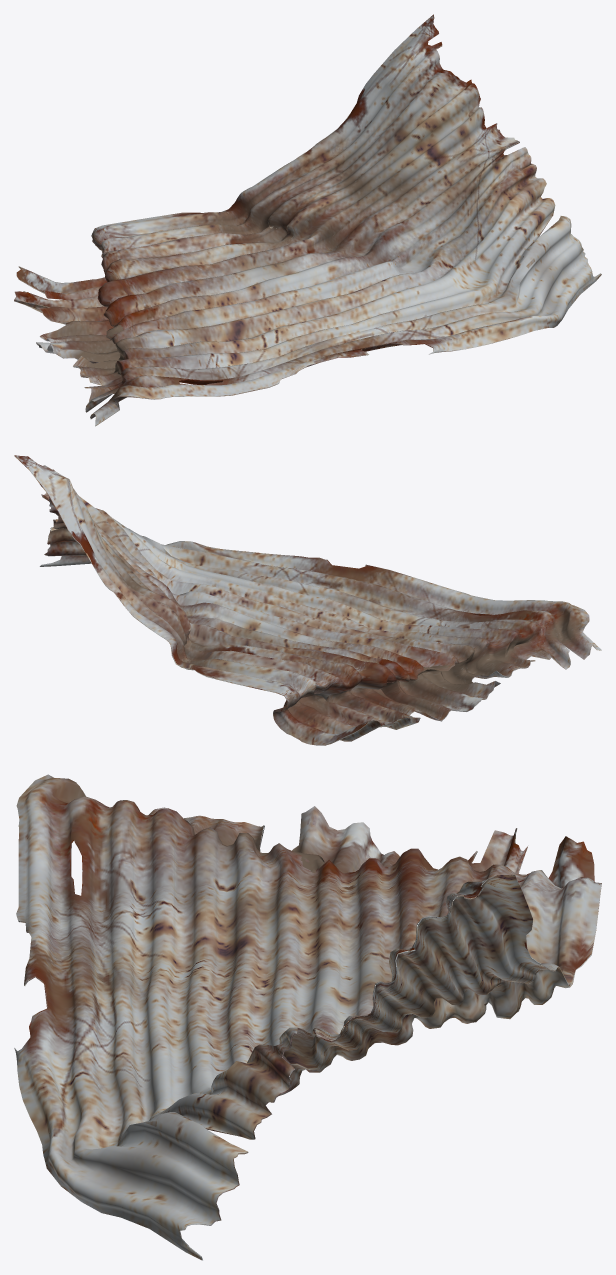
File: MOD_DebrisCorrugated_D.fbx
The picture shows the model from 3 angles, top to bottom: view 1: azimuth 30°, elevation 25°; view 2: azimuth 150°, elevation 25°; view 3: azimuth 270°, elevation 25°; orthographic projection. The views are drawn at different scales.
Parts seen in each view (by area): view 1: MOD_DebrisCorrugated_D; view 2: MOD_DebrisCorrugated_D; view 3: MOD_DebrisCorrugated_D.
Part boxes in pixels (left/top/right/bottom): MOD_DebrisCorrugated_D: left=14, top=14, right=601, bottom=426; MOD_DebrisCorrugated_D: left=14, top=455, right=601, bottom=745; MOD_DebrisCorrugated_D: left=14, top=774, right=601, bottom=1260.
Bounding box in the file's own units: 163 × 59.94 × 94.21.
